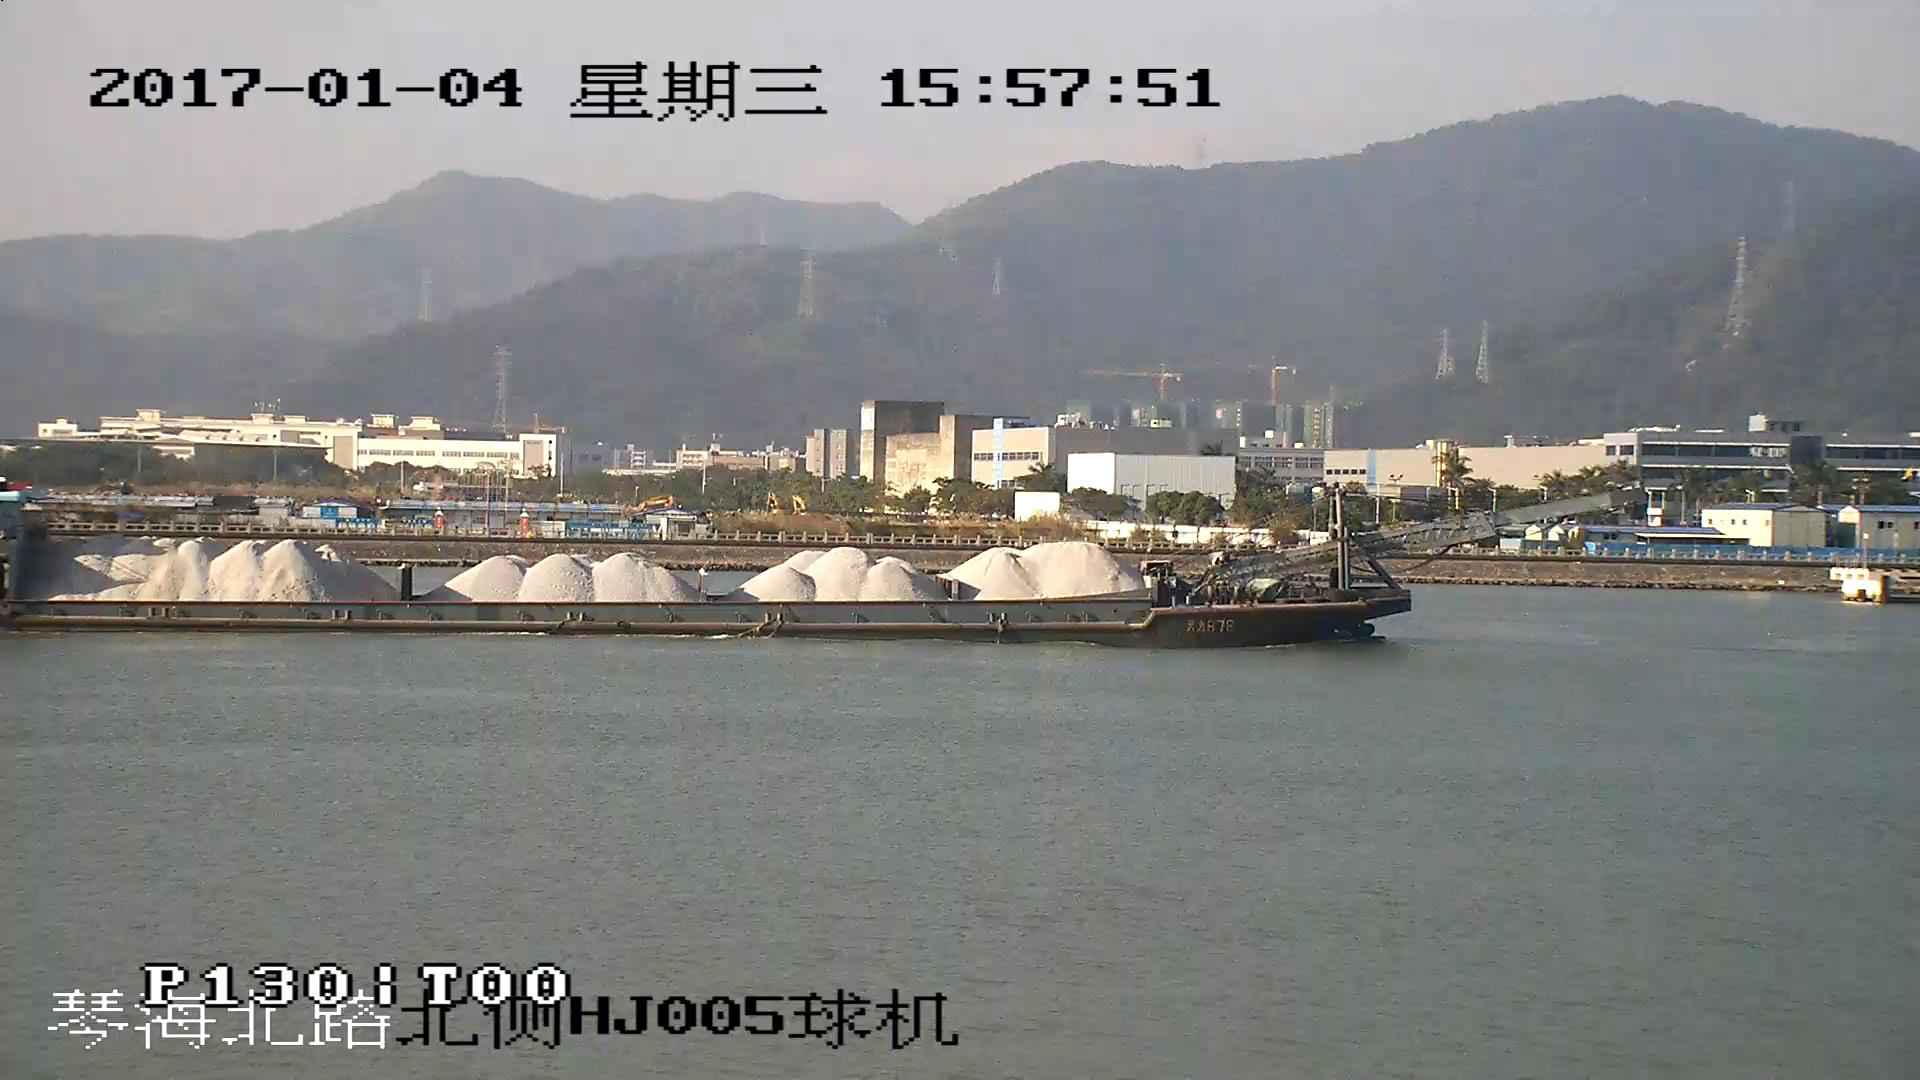ore carrier: (1, 488, 1622, 641)
